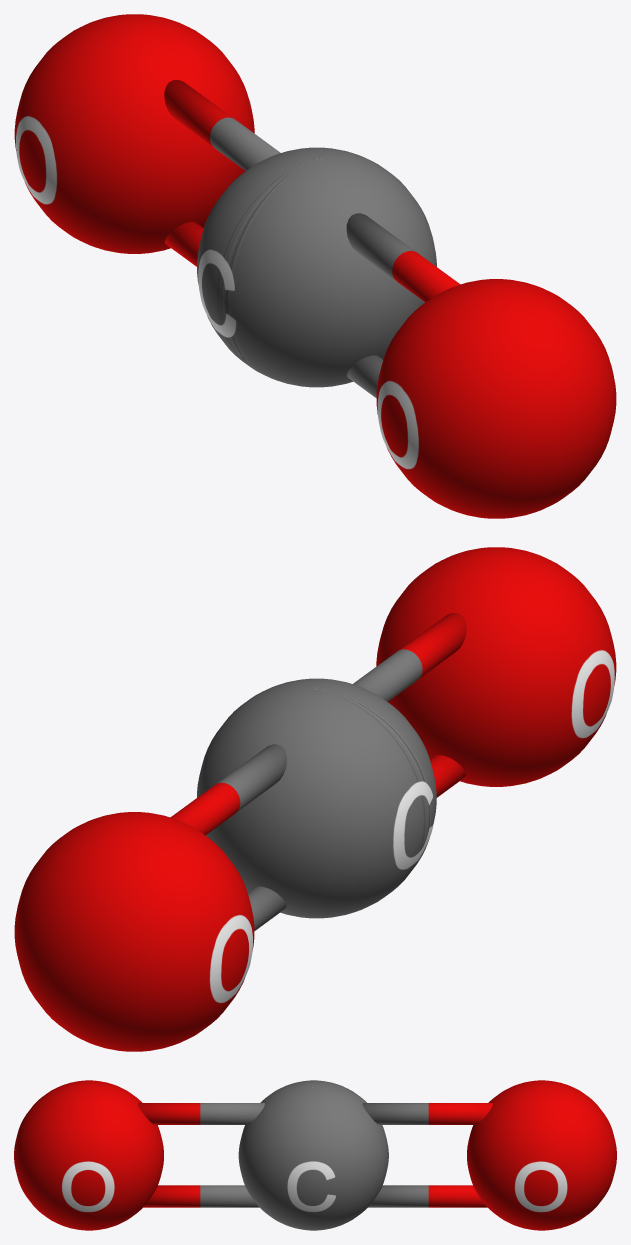
File: dioxido_carbono.glb
3 renders of one model, top to bottom at view 1: azimuth 30°, elevation 25°; view 2: azimuth 150°, elevation 25°; view 3: azimuth 270°, elevation 25°, orthographic. The views are drawn at different scales.
Parts seen in each view (by area): view 1: Mol molde 9; view 2: Mol molde 9; view 3: Mol molde 9.
Boxes of the visible parts, x1,y1,x2,y2 form: Mol molde 9: (14,14,616,518); Mol molde 9: (14,547,616,1051); Mol molde 9: (14,1080,616,1230).
Bounding box in the file's own units: 0.3054 × 0.3054 × 1.23.
2 materials, 2 textured.
